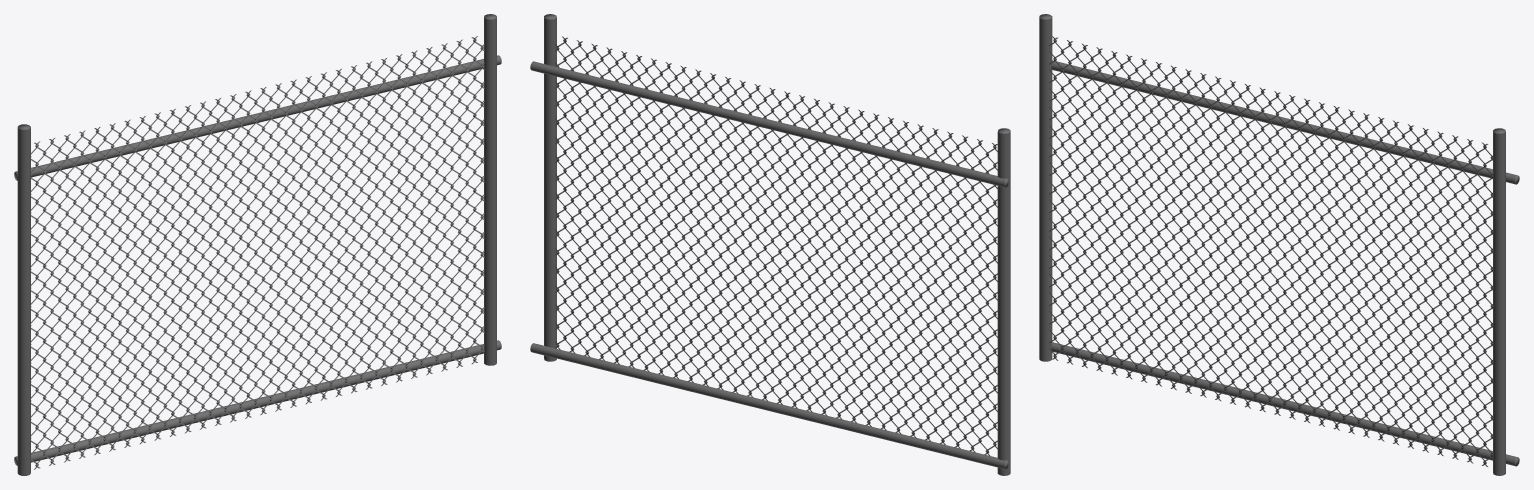
File: fence001.glb
3 renders of one model, left to right at view 1: azimuth 30°, elevation 25°; view 2: azimuth 150°, elevation 25°; view 3: azimuth 330°, elevation 25°, orthographic.
Visible parts, largest first — view 1: Plane.002, Plane.001, Plane.004, Plane.005, Plane.003, Cylinder, Cylinder.004, Cylinder.006, Cylinder.005; view 2: Plane.002, Plane.001, Plane.004, Plane.005, Plane.003, Cylinder.005, Cylinder.006, Cylinder, Cylinder.004; view 3: Plane.002, Plane.001, Plane.004, Plane.005, Plane.003, Cylinder, Cylinder.004, Cylinder.005, Cylinder.006.
Part boxes in pixels (left/top/right/bottom): Plane.002: left=324, top=36, right=484, bottom=385; Plane.001: left=31, top=212, right=252, bottom=469; Plane.004: left=31, top=102, right=289, bottom=278; Plane.005: left=93, top=220, right=372, bottom=455; Plane.003: left=204, top=50, right=417, bottom=266; Cylinder: left=17, top=124, right=30, bottom=475; Cylinder.004: left=484, top=14, right=496, bottom=365; Cylinder.006: left=14, top=340, right=501, bottom=465; Cylinder.005: left=14, top=55, right=501, bottom=180; Plane.002: left=555, top=36, right=712, bottom=375; Plane.001: left=783, top=213, right=997, bottom=455; Plane.004: left=746, top=103, right=997, bottom=277; Plane.005: left=671, top=220, right=932, bottom=441; Plane.003: left=621, top=51, right=830, bottom=265; Cylinder.005: left=530, top=61, right=1008, bottom=187; Cylinder.006: left=530, top=343, right=1008, bottom=469; Cylinder: left=997, top=128, right=1010, bottom=475; Cylinder.004: left=544, top=14, right=556, bottom=361; Plane.002: left=1337, top=131, right=1505, bottom=466; Plane.001: left=1049, top=103, right=1266, bottom=371; Plane.004: left=1049, top=36, right=1303, bottom=273; Plane.005: left=1110, top=236, right=1384, bottom=441; Plane.003: left=1219, top=78, right=1428, bottom=298; Cylinder: left=1039, top=14, right=1052, bottom=361; Cylinder.004: left=1493, top=128, right=1505, bottom=475; Cylinder.005: left=1051, top=60, right=1519, bottom=184; Cylinder.006: left=1051, top=342, right=1519, bottom=466.
Bounding box in the file's own units: 23.21 × 15.93 × 0.9887.
2 materials, 1 textured.
